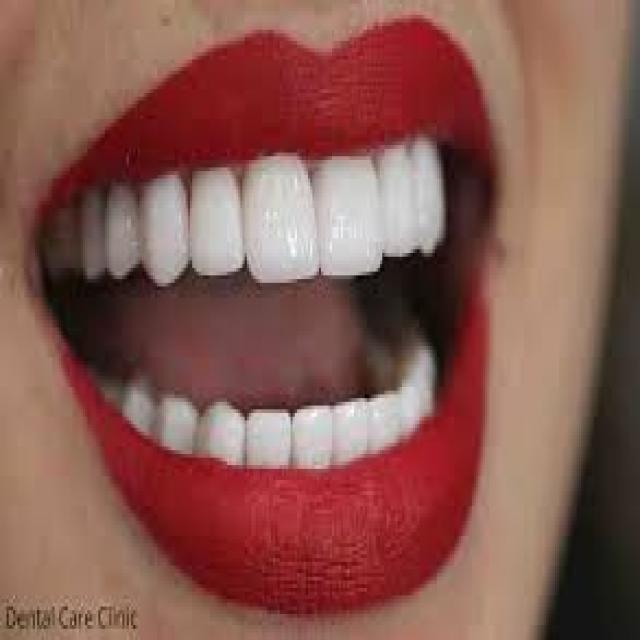tooth: (312, 164, 382, 272), (247, 164, 312, 275), (183, 182, 240, 264), (382, 149, 417, 260), (417, 149, 450, 242), (153, 182, 183, 279), (107, 186, 138, 275), (199, 402, 238, 454), (286, 417, 328, 465), (245, 417, 284, 461), (332, 406, 369, 450), (83, 197, 98, 287), (153, 402, 192, 435), (376, 398, 400, 443), (408, 376, 434, 413), (125, 380, 146, 424), (396, 394, 418, 432)
